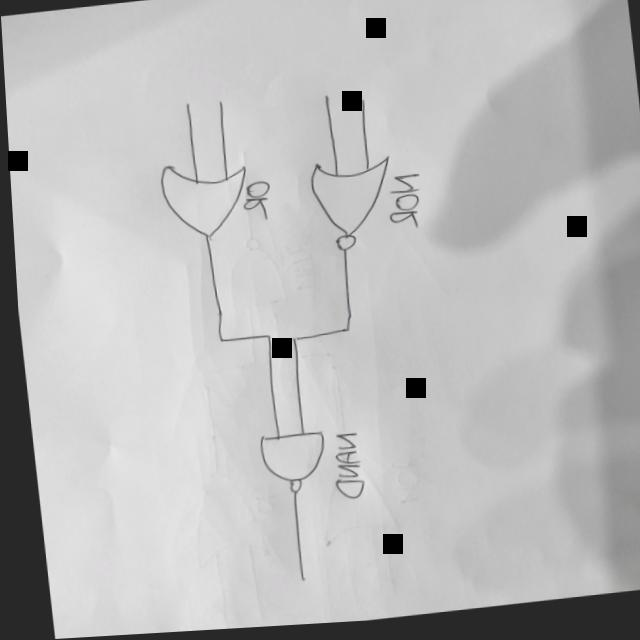junction: (332, 327, 350, 339), (209, 336, 221, 348), (258, 334, 269, 344), (284, 338, 294, 348)
terminal: (289, 576, 300, 588), (318, 95, 330, 106), (354, 101, 364, 109), (180, 103, 188, 109), (214, 102, 222, 108)
text: (321, 436, 363, 505), (382, 179, 420, 235), (235, 182, 269, 224)
